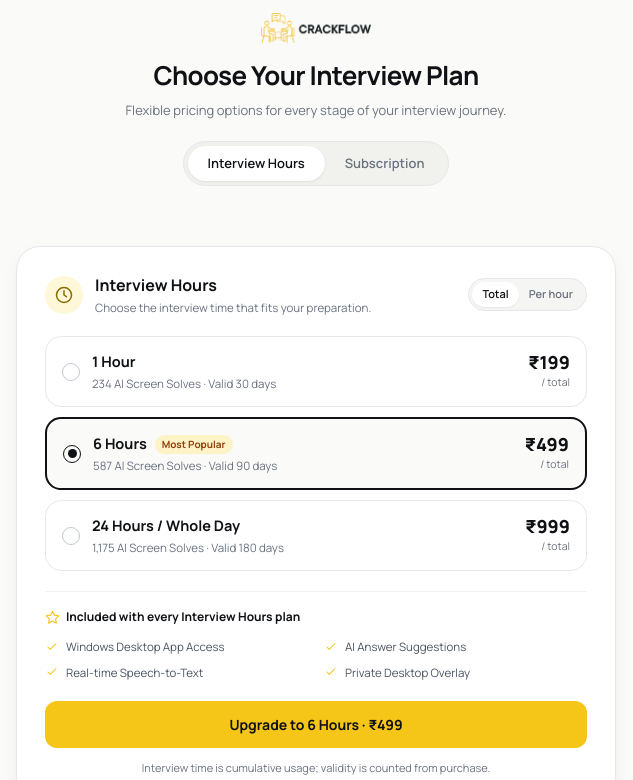
Test: Unit: Plans & Billing Logic › switches to Subscription view when toggle is clicked
This screenshot has width=633, height=780.
# Click Subscription tab
Click the tab "Subscription".
click(385, 163)  # box [325, 146, 444, 181]
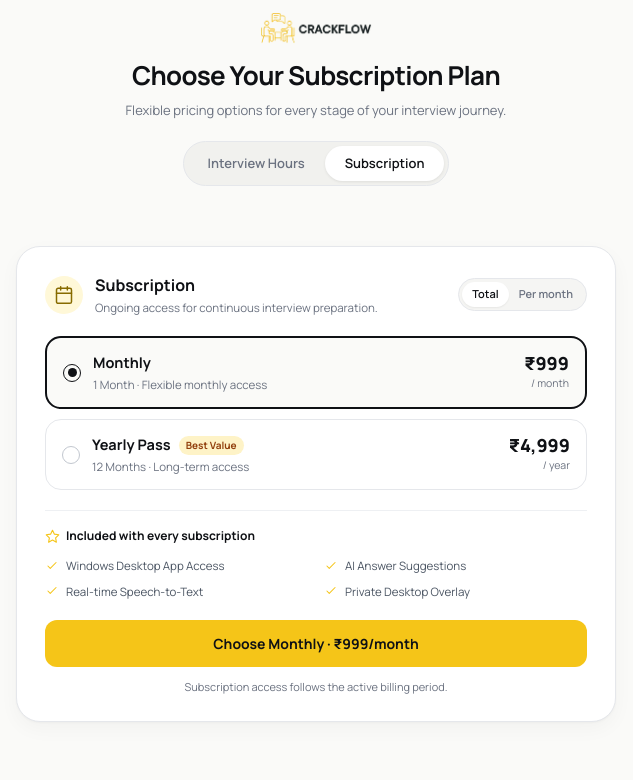
Now the heading "Choose Your Subscription Plan" is shown, box [126, 56, 506, 95]
Now the heading "Subscription" is shown, box [95, 274, 195, 296]
Now the text "Monthly" is shown, box [93, 352, 151, 374]
